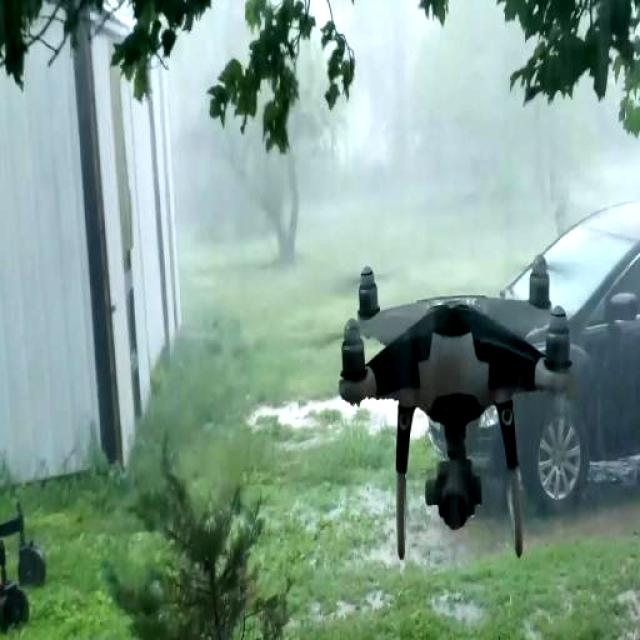bird: (332, 246, 582, 570)
